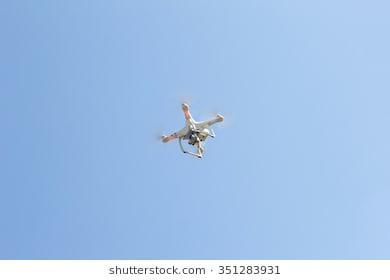drone: (158, 100, 226, 160)
